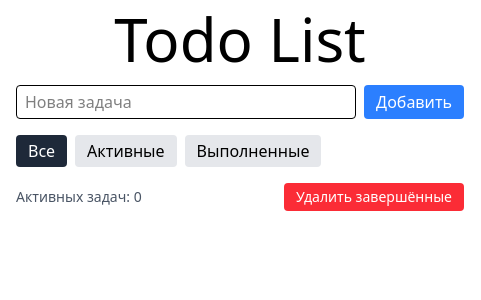
Todo App › фильтры работают корректно
The width and height of the screenshot is (481, 300).
Добавляем 2 задачи
Type "Активная" into the field with placeholder "Новая задача" at {"x": 186, "y": 102}, box left=16, top=85, right=356, bottom=119
Click the button "Добавить" at {"x": 414, "y": 102}, box left=364, top=85, right=464, bottom=119
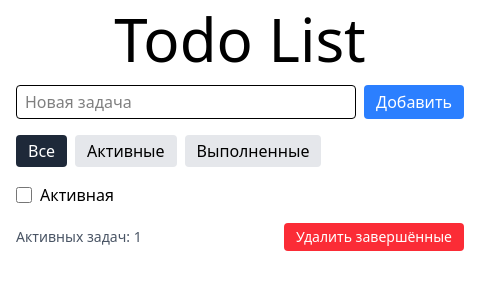
Type "Выполненная" into the field with placeholder "Новая задача" at {"x": 186, "y": 102}, box left=16, top=85, right=356, bottom=119
Click the button "Добавить" at {"x": 414, "y": 102}, box left=364, top=85, right=464, bottom=119
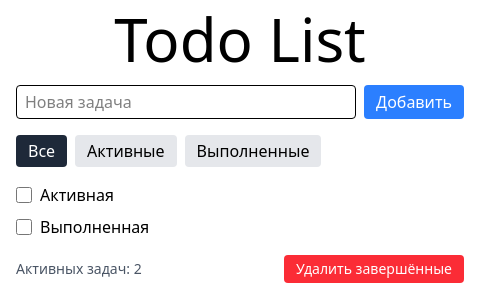
Делаем вторую выполненной
Click the checkbox next to "Выполненная" at {"x": 24, "y": 227}, box left=16, top=219, right=32, bottom=235
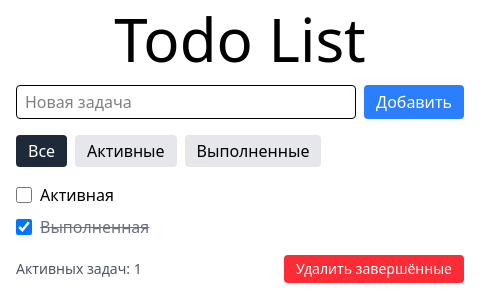
Фильтр "Активные"
Click the button "Активные" at {"x": 126, "y": 151}, box left=75, top=135, right=177, bottom=167
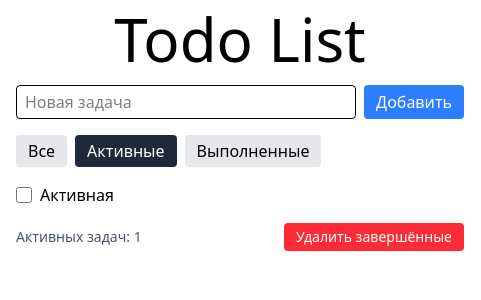
Result: the text "Активная" is shown at left=40, top=183, right=114, bottom=207
Result: the text "Выполненная" is gone
Фильтр "Выполненные"
Click the button "Выполненные" at {"x": 253, "y": 151}, box left=185, top=135, right=321, bottom=167
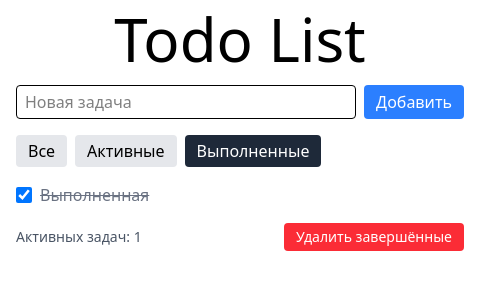
Result: the text "Выполненная" is shown at left=40, top=183, right=149, bottom=207
Result: the text "Активная" is gone
Фильтр "Все"
Click the button "Все" at {"x": 42, "y": 151}, box left=16, top=135, right=67, bottom=167
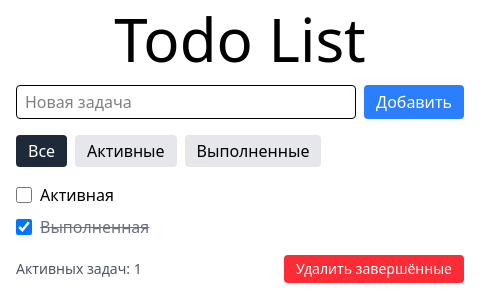
Result: the text "Выполненная" is shown at left=40, top=215, right=149, bottom=239
Result: the text "Активная" is shown at left=40, top=183, right=114, bottom=207
